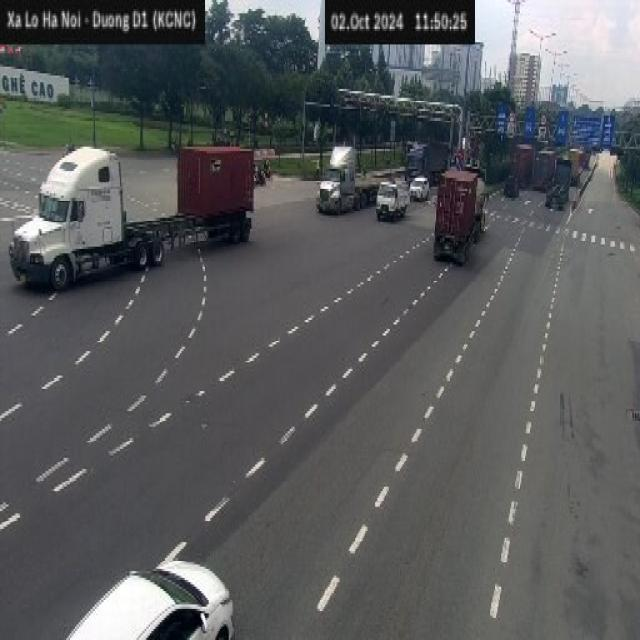car: (64, 556, 235, 638)
truck: (8, 142, 263, 285)
